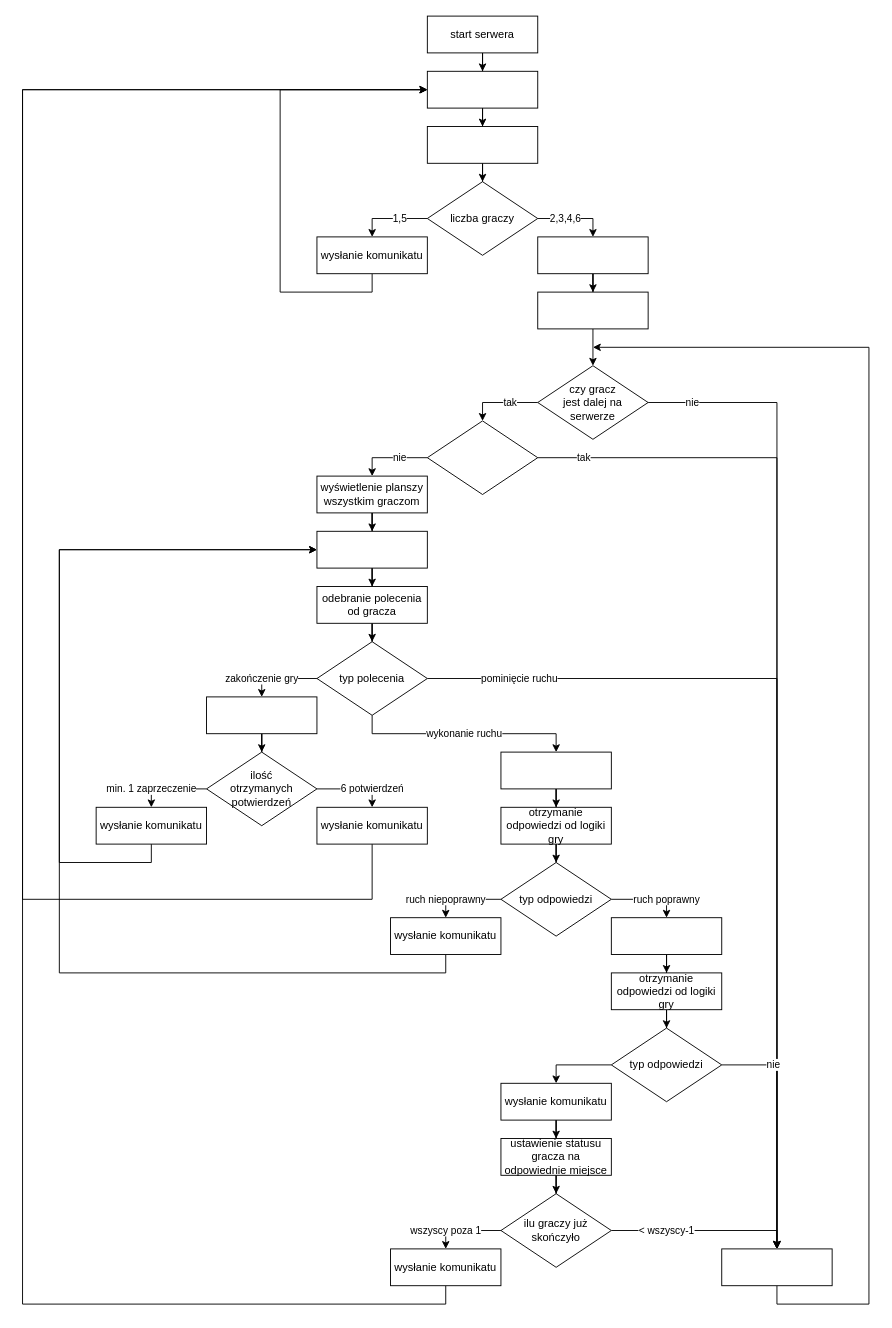
Some shapes in this 892 by 1328 pixel diagram are drawn without their labels. Each missing label, with the centre of its shape:
"czy gracz już nie wygrał" belongs at [482,457].
"oczekiwanie na graczy (max. 6)" belongs at [482,89].
"otrzymanie żądania rozpoczęcia gry" belongs at [482,144].
"przejście do kolejnego gracza" belongs at [776,1267].
"rozpoczęcie gry" belongs at [592,255].
"wylosowanie pierwszego gracza" belongs at [592,310].
"wysłanie ruchu do logiki gry" belongs at [555,770].
"wysłanie zapytania do logiki gry czy obecny gracz już wygrał" belongs at [666,935].
"wysłanie zapytania do wszystkich graczy" belongs at [261,715].
"wysłanie żądania ruchu do obecnego gracza" belongs at [371,549].
